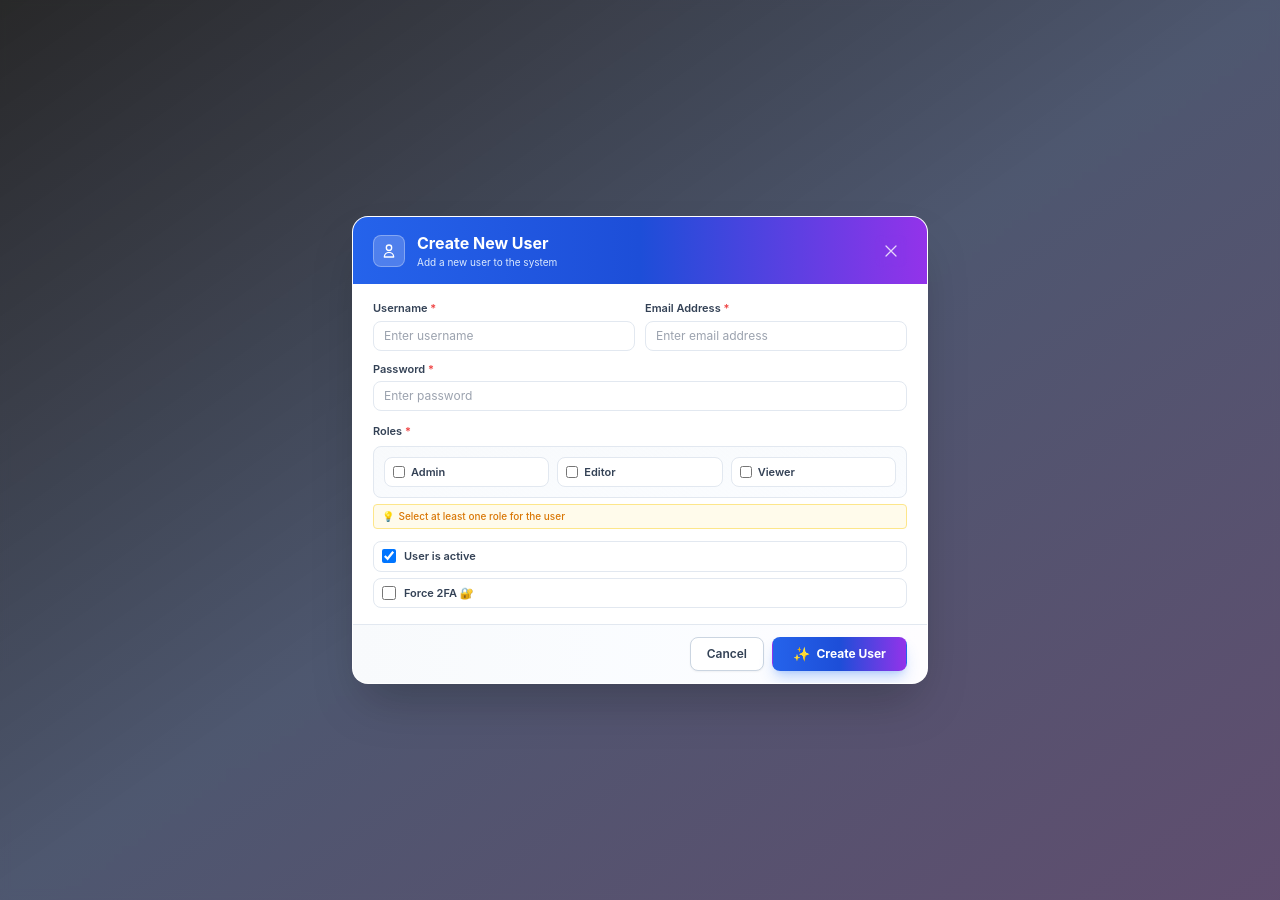
it: UserModal Component › Create Mode › should validate email format
This screenshot has width=1280, height=900.
Type "invalid-email" into the field with placeholder "Enter email address" at (776, 336), box [645,320,907,350]
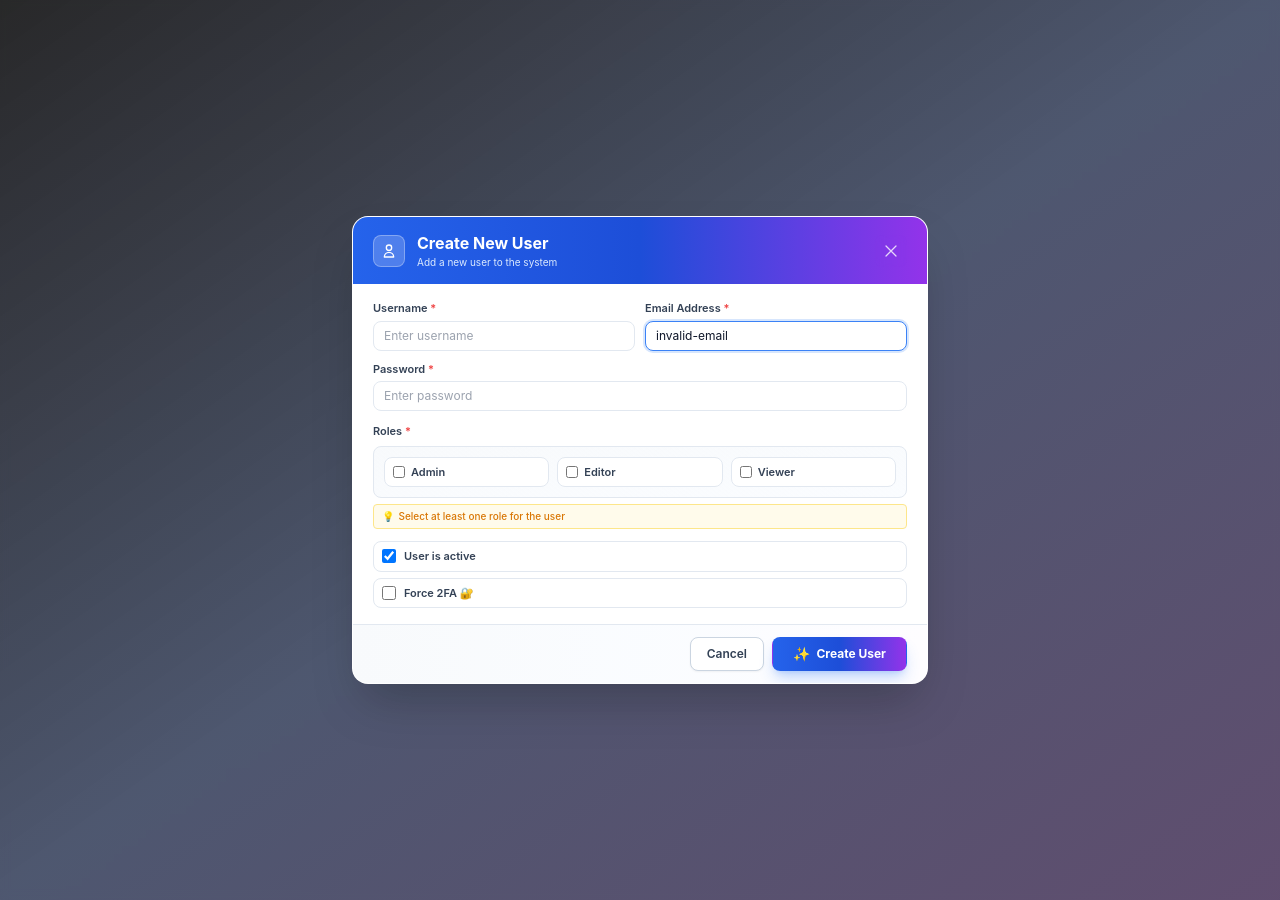
Click the text "Create User" at (851, 654), box [816,646,886,662]
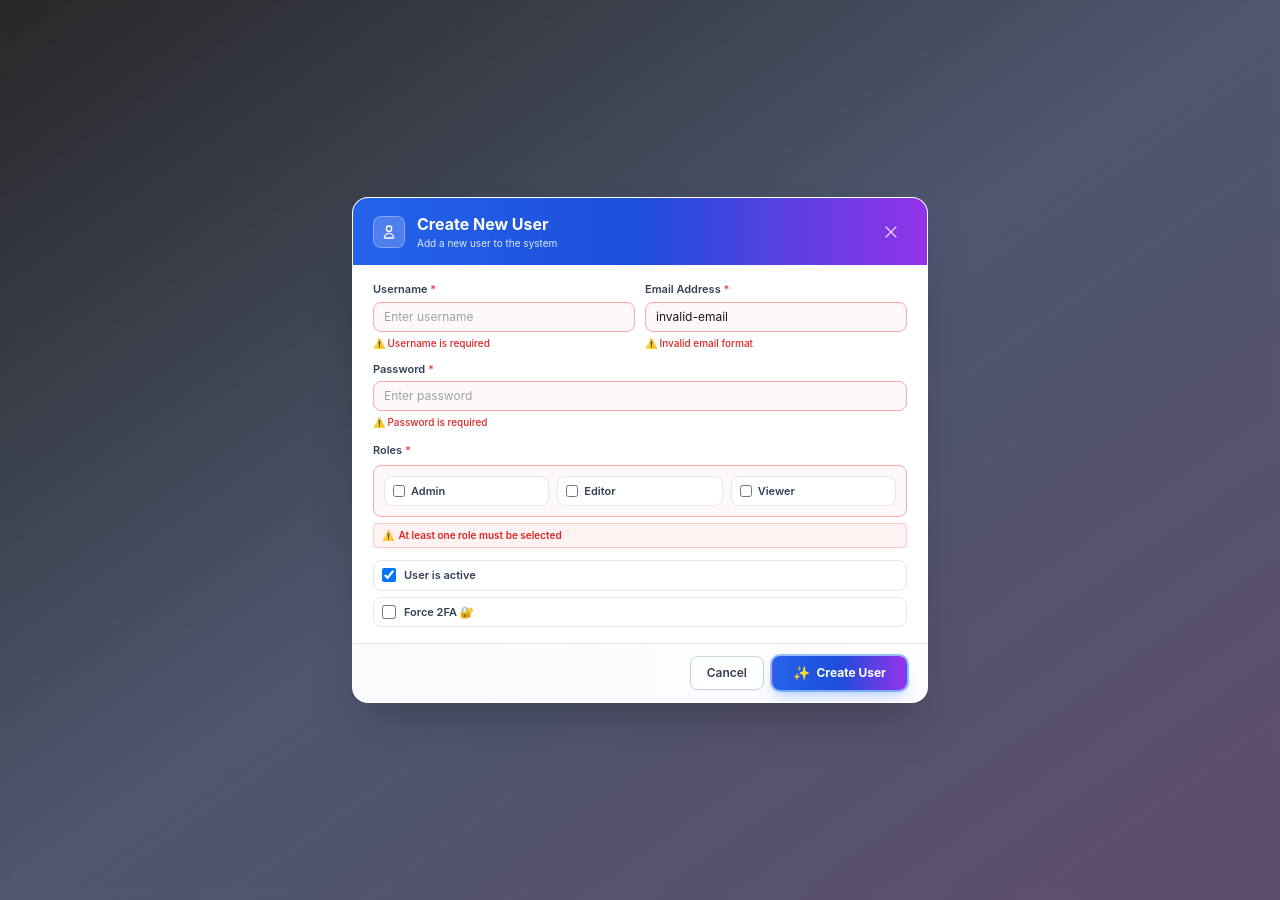
expect the text "⚠️ Invalid email format" is shown: met, box [645,336,753,348]
